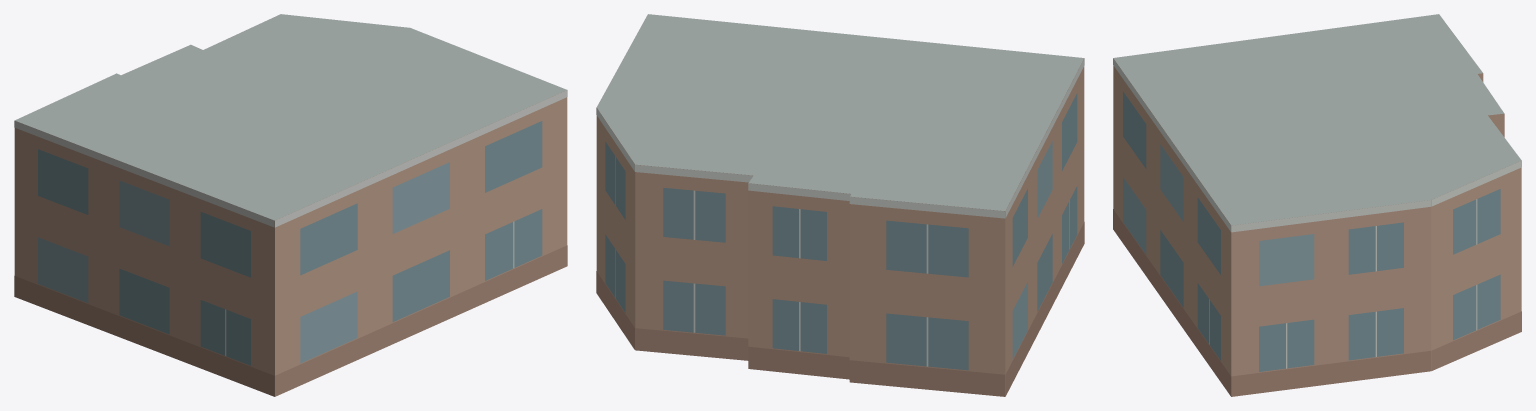
File: survey-upis-32787796.glb
3 renders of one model, left to right at view 1: azimuth 30°, elevation 25°; view 2: azimuth 150°, elevation 25°; view 3: azimuth 270°, elevation 25°, orthographic. The views are drawn at different scales.
Visible parts, largest first — view 1: survey-upis-32787796.tmp; view 2: survey-upis-32787796.tmp; view 3: survey-upis-32787796.tmp.
Part boxes in pixels (bbox=[...]): survey-upis-32787796.tmp: bbox=[14, 14, 567, 396]; survey-upis-32787796.tmp: bbox=[596, 14, 1084, 396]; survey-upis-32787796.tmp: bbox=[1113, 14, 1521, 396].
Size of the model in its own units: 16.17 by 6.1 by 13.2.
